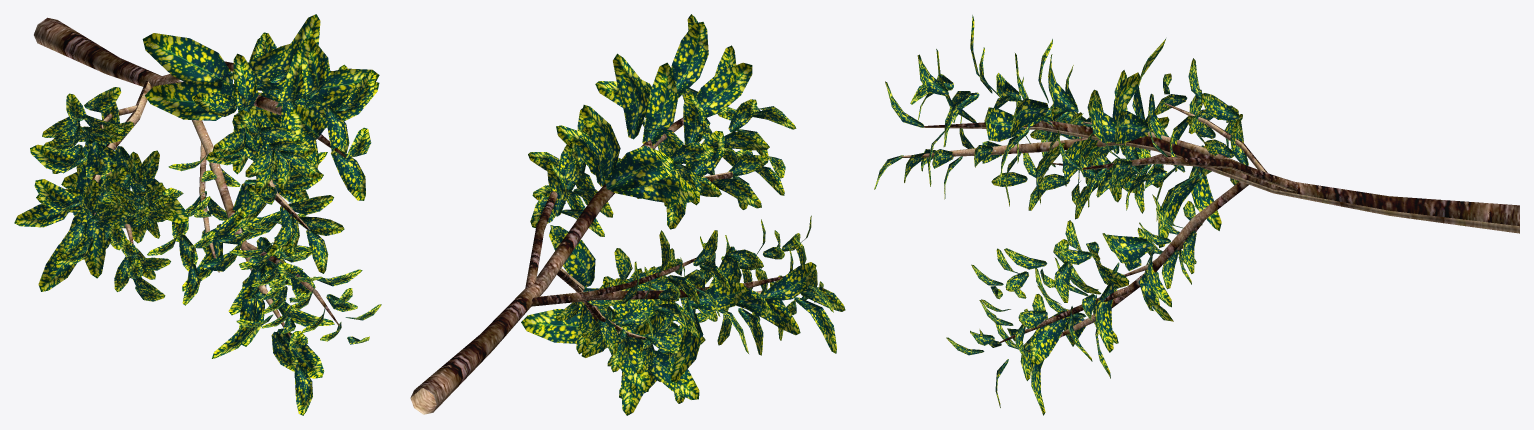
File: OrnamentalPlant_001.obj
3 renders of one model, left to right at view 1: azimuth 30°, elevation 25°; view 2: azimuth 150°, elevation 25°; view 3: azimuth 270°, elevation 25°, orthographic. The views are drawn at different scales.
Visible parts, largest first — view 1: Leaves, trunk; view 2: Leaves, trunk; view 3: Leaves, trunk.
Part boxes in pixels (x1=…): Leaves: x1=14, y1=14, x2=381, y2=415; trunk: x1=34, y1=17, x2=346, y2=338; Leaves: x1=521, y1=14, x2=845, y2=415; trunk: x1=410, y1=117, x2=784, y2=414; Leaves: x1=874, y1=15, x2=1248, y2=415; trunk: x1=901, y1=103, x2=1519, y2=351.
Size of the model in its own units: 67.02 by 79.21 by 119.
Materials: 2 (2 with a texture image).
